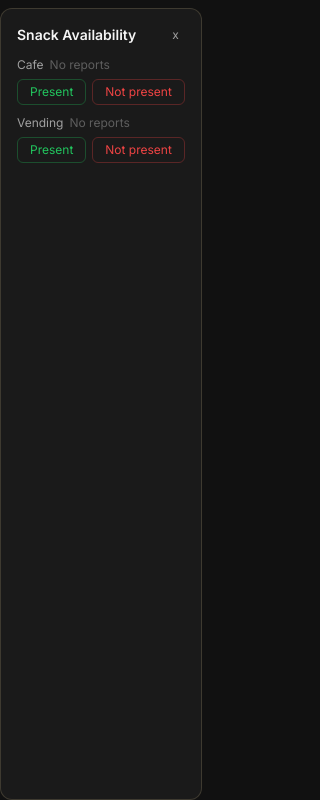
SnackReporter › shows error when user is not authenticated
The image size is (320, 800).
Step 1. Click the button "Present" below "Cafe" → (52, 92), box [17,79,86,105]
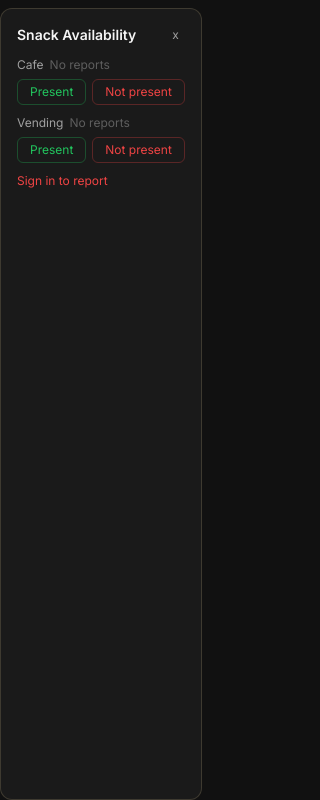
Expected: the text "Sign in to report" is shown, [17,173,108,188]
